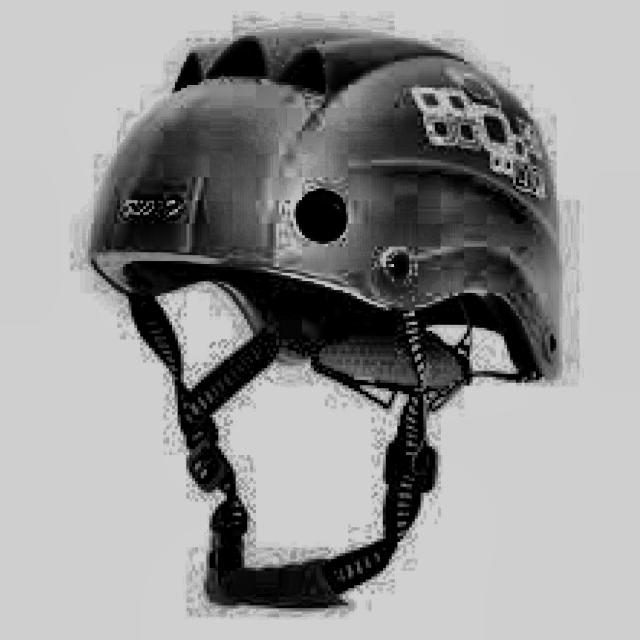Helmet: (84, 21, 575, 640)
